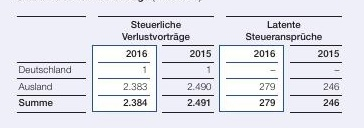table: (0, 0, 364, 128)
